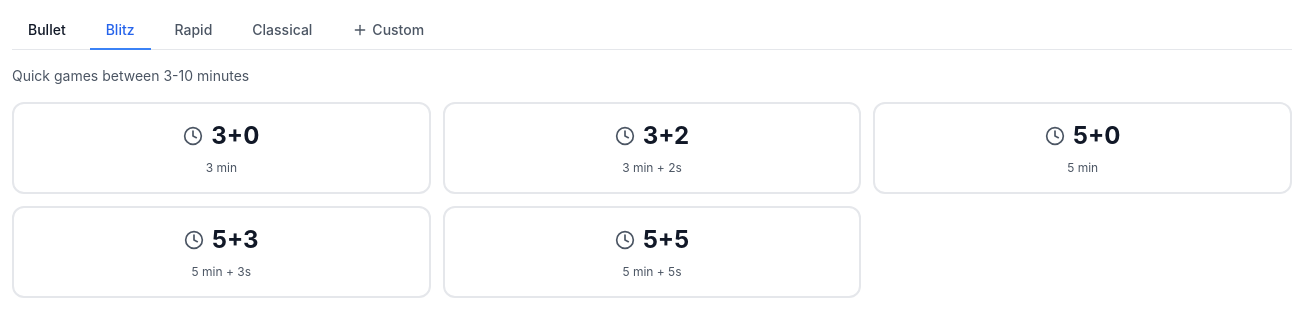
it: TimeControlSelector › Custom Time Controls (Requirement 5.5) › should show error for invalid increment (too high)
The image size is (1304, 333).
Click the button with test id "category-tab-custom": (388, 31) [336,12,440,50]
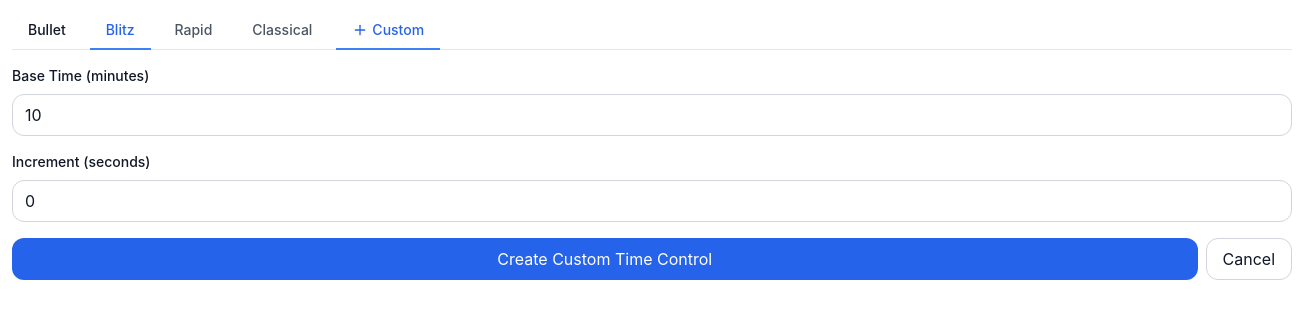
Replace the text in the number field with test id "custom-increment-input" with "200": (652, 201) [12,180,1292,222]
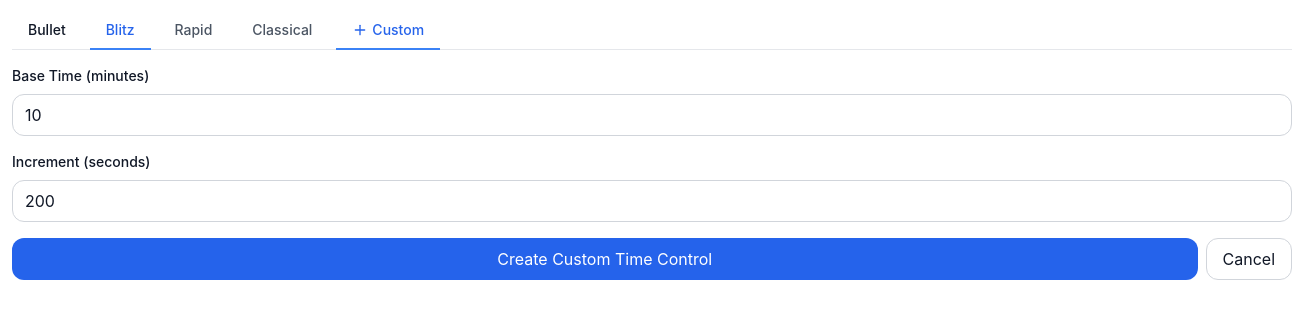
Click the button with test id "custom-submit-button": (605, 259) [12,238,1198,280]
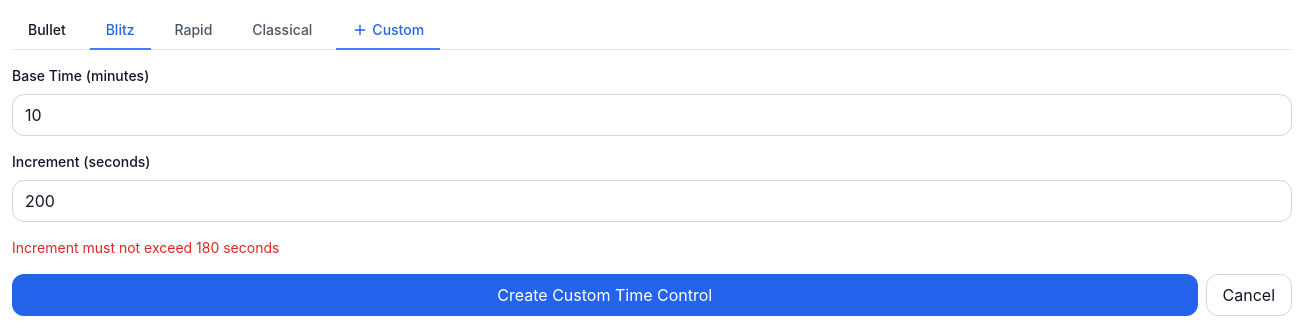
Check: the text "Increment must not exceed 180 seconds" is shown, box [12,239,279,256]
